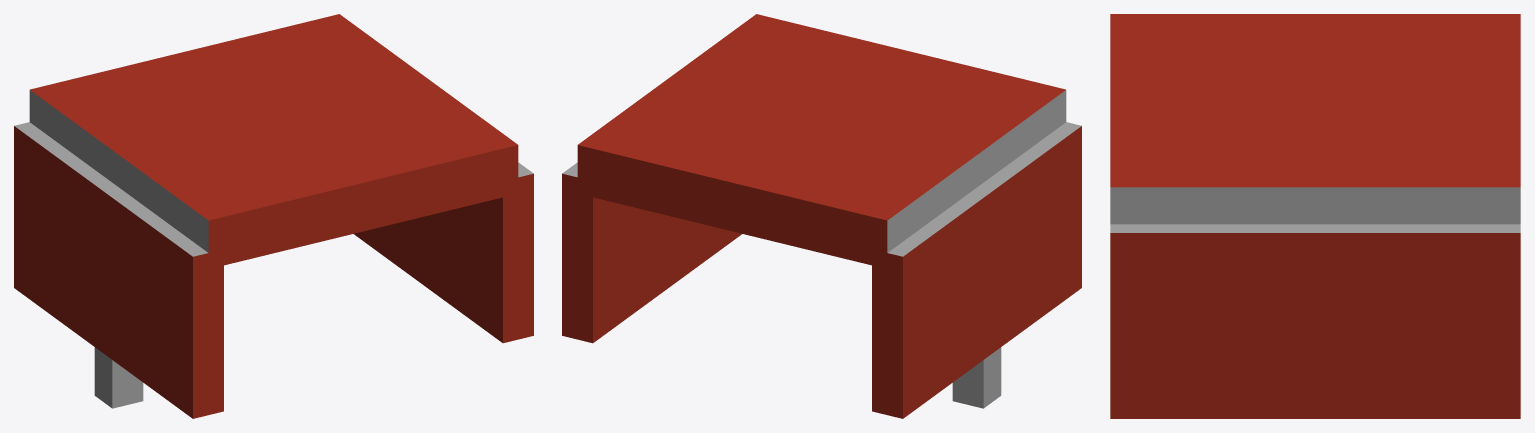
File: spawner.glb
The picture shows the model from 3 angles, left to right: view 1: azimuth 30°, elevation 25°; view 2: azimuth 150°, elevation 25°; view 3: azimuth 270°, elevation 25°; orthographic projection. The views are drawn at different scales.
Visible parts, largest first — view 1: Cube.001; view 2: Cube.001; view 3: Cube.001.
Part boxes in pixels (x1=…): Cube.001: x1=14, y1=14, x2=533, y2=418; Cube.001: x1=562, y1=14, x2=1081, y2=418; Cube.001: x1=1110, y1=14, x2=1520, y2=418.
Bounding box in the file's own units: 2.2 × 1.5 × 2.
